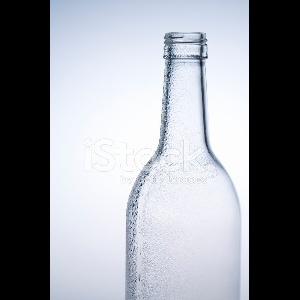emptybottle: (127, 32, 239, 300)
